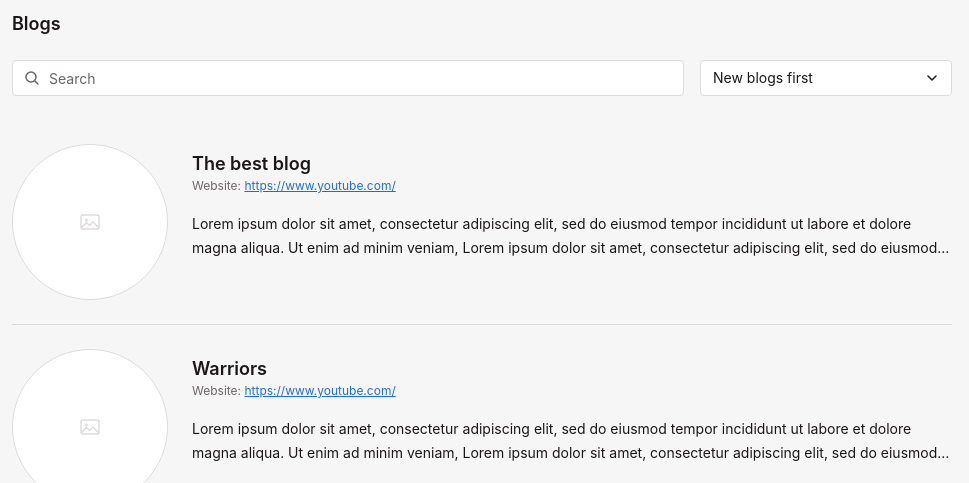
BlogsPage › filters blogs by search query
The width and height of the screenshot is (969, 483).
(page scrolled)
Expected: the link "The best blog" is shown, left=192, top=153, right=311, bottom=174
In the search field labelled "Search": (348, 78) left=12, top=60, right=684, bottom=96, type "Warriors"
(page scrolled)
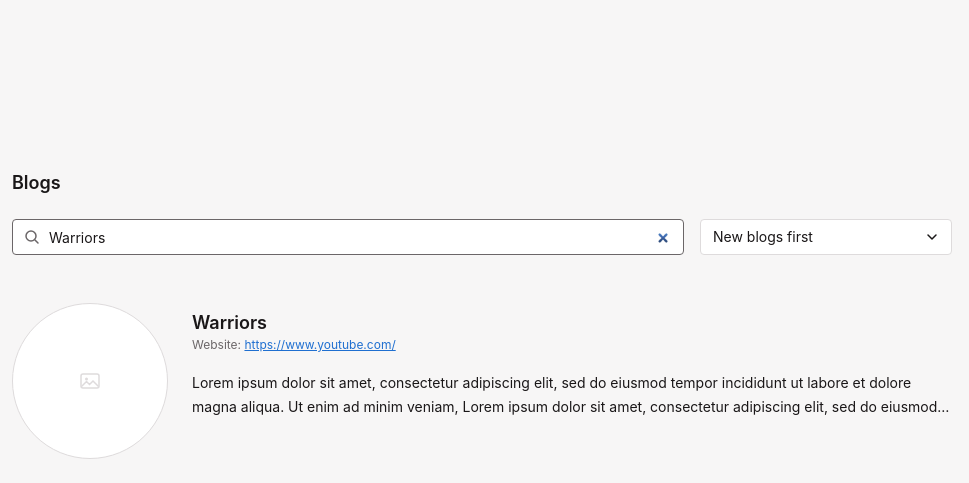
Expected: the link "Warriors" is shown, left=192, top=312, right=267, bottom=333
Result: the link "The best blog" is gone
